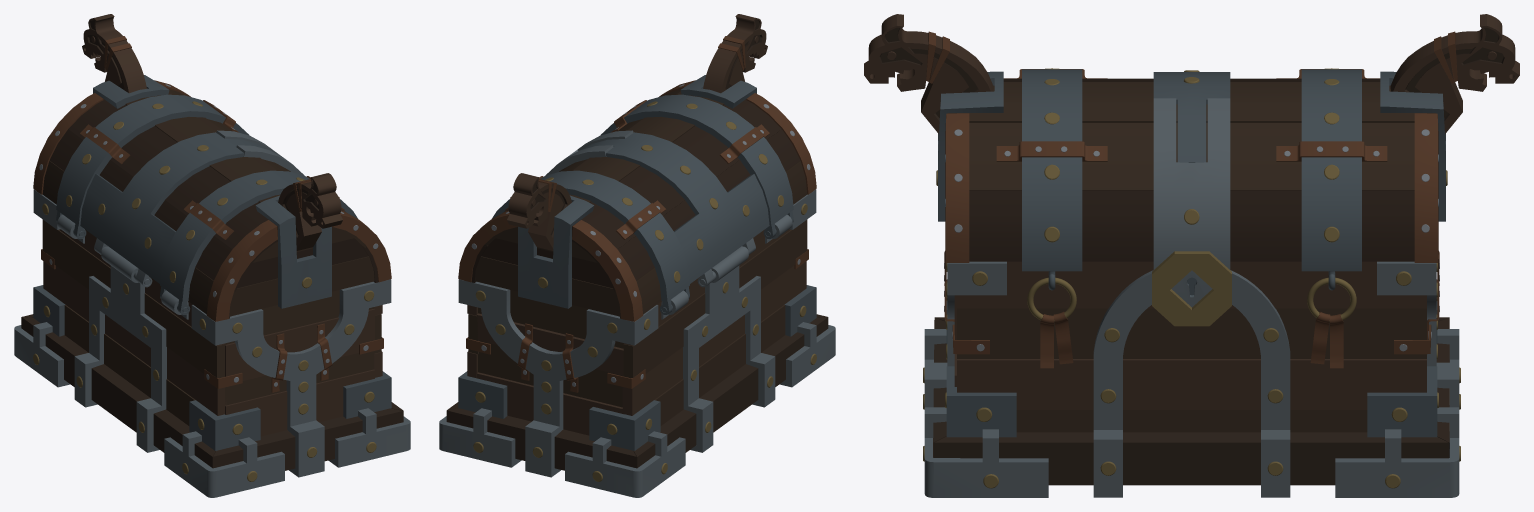
File: chest.fbx
3 views of the same model, side by side, from view 1: azimuth 30°, elevation 25°; view 2: azimuth 150°, elevation 25°; view 3: azimuth 270°, elevation 25° (orthographic). The views are drawn at different scales.
Visible parts, largest first — view 1: Cube, Cube.004, Cylinder, Cylinder.002, Cylinder.007, Cylinder.006, Cube.001, Circle, Vert, Cylinder.004, Cylinder.005, Cylinder.013 (+10 smaller); view 2: Cube, Cube.004, Cylinder, Cylinder.002, Cylinder.007, Cylinder.006, Cube.001, Circle, Vert, Cylinder.004, Cylinder.005, Cylinder.013 (+10 smaller); view 3: Cube, Cylinder, Cylinder.002, Cube.004, Cube.001, Vert, Circle, Cylinder.003, Cylinder.005, Cylinder.007, Cylinder.004, Cube.005 (+8 smaller).
Part boxes in pixels (bbox=[...]): Cube: bbox=[42, 219, 382, 436]; Cube.004: bbox=[14, 285, 410, 497]; Cylinder: bbox=[42, 89, 378, 318]; Cylinder.002: bbox=[56, 94, 357, 301]; Cylinder.007: bbox=[33, 189, 391, 477]; Cylinder.006: bbox=[80, 132, 267, 283]; Cube.001: bbox=[21, 314, 403, 470]; Circle: bbox=[74, 265, 166, 452]; Vert: bbox=[82, 14, 342, 250]; Cylinder.004: bbox=[93, 75, 331, 308]; Cylinder.005: bbox=[33, 80, 391, 321]; Cylinder.013: bbox=[230, 229, 374, 316]; Cube: bbox=[467, 219, 807, 435]; Cube.004: bbox=[439, 285, 835, 497]; Cylinder: bbox=[471, 89, 807, 318]; Cylinder.002: bbox=[492, 94, 793, 301]; Cylinder.007: bbox=[458, 189, 816, 477]; Cylinder.006: bbox=[582, 132, 769, 283]; Cube.001: bbox=[446, 314, 828, 470]; Circle: bbox=[683, 265, 775, 452]; Vert: bbox=[507, 14, 767, 250]; Cylinder.004: bbox=[518, 75, 756, 308]; Cylinder.005: bbox=[458, 80, 816, 321]; Cylinder.013: bbox=[475, 229, 619, 316]; Cube: bbox=[954, 261, 1426, 432]; Cylinder: bbox=[947, 78, 1436, 261]; Cylinder.002: bbox=[1022, 69, 1361, 290]; Cube.004: bbox=[924, 301, 1459, 497]; Cube.001: bbox=[933, 317, 1449, 485]; Vert: bbox=[864, 14, 1519, 133]; Circle: bbox=[1093, 270, 1290, 497]; Cylinder.003: bbox=[1153, 98, 1230, 307]; Cylinder.005: bbox=[945, 113, 1438, 262]; Cylinder.007: bbox=[924, 261, 1459, 439]; Cylinder.004: bbox=[938, 71, 1445, 221]; Cube.005: bbox=[1152, 251, 1231, 326].
Size of the model in its own units: 235 by 335 by 484.
